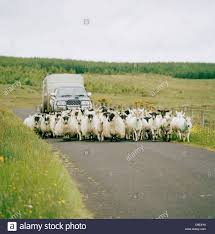sheep: (103, 111, 125, 141), (124, 109, 142, 143), (173, 113, 193, 143), (57, 112, 76, 142), (71, 112, 88, 143), (157, 106, 172, 138), (82, 112, 100, 138), (41, 113, 56, 134), (142, 113, 153, 138), (29, 112, 43, 131)
